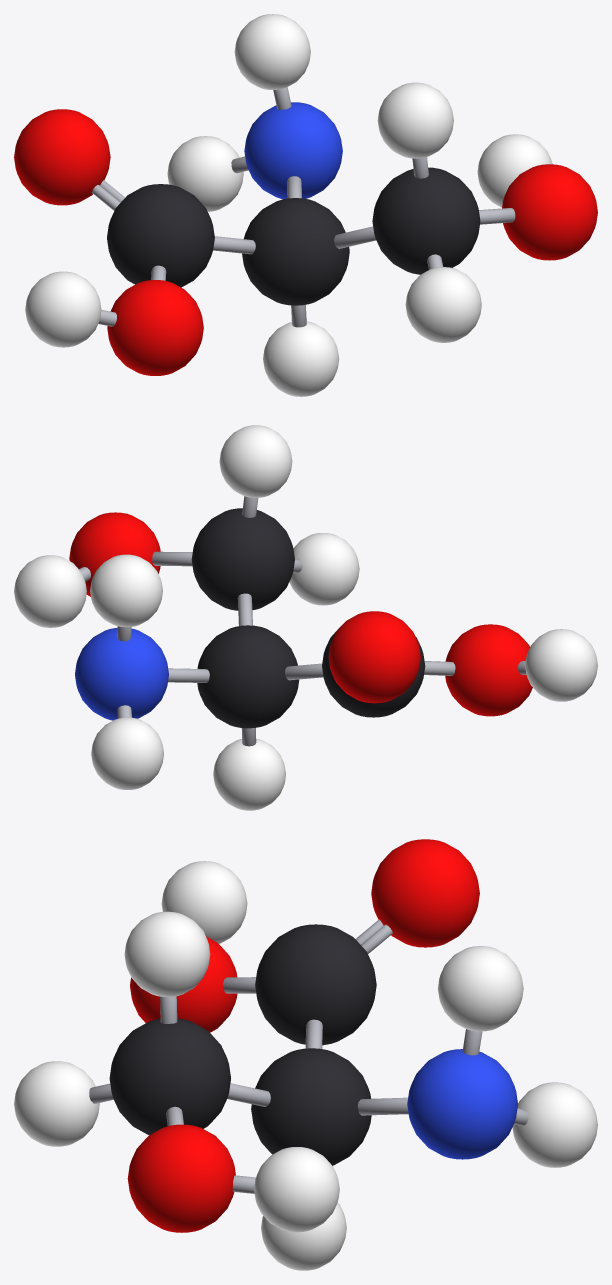
Rendered from serine.glb.
The picture shows the model from 3 angles, top to bottom: view 1: azimuth 30°, elevation 25°; view 2: azimuth 150°, elevation 25°; view 3: azimuth 270°, elevation 25°; orthographic projection. The views are drawn at different scales.
Visible parts, largest first — view 1: C1, C2, C4, O5, O6, N0, O3, H13, H11, H10, H7, H9 (+5 smaller); view 2: C1, C2, O5, N0, O6, H12, H13, H8, H11, H7, H9, H10 (+5 smaller); view 3: C4, C2, C1, N0, O3, O5, H7, H11, H12, H10, H8, H13 (+4 smaller).
Part boxes in pixels (x1,y1,x2,y2): C1: (242,198,349,305); C2: (372,167,480,274); C4: (107,184,214,287); O5: (14,109,110,205); O6: (107,280,203,375); N0: (244,102,342,199); O3: (502,164,597,260); H13: (25,271,101,347); H11: (377,82,453,158); H10: (405,267,481,342); H7: (234,14,310,89); H9: (263,321,339,396); C1: (197,625,299,728); C2: (191,508,294,610); O5: (328,611,420,703); N0: (75,628,168,720); O6: (445,624,532,716); H12: (14,555,86,627); H13: (525,629,597,701); H8: (91,717,163,789); H11: (219,425,292,497); H7: (90,554,162,627); H9: (213,738,285,810); H10: (289,533,359,605); C4: (255,924,376,1045); C2: (109,1018,230,1135); C1: (251,1048,371,1165); N0: (407,1049,517,1159); O3: (127,1124,235,1232); O5: (371,839,479,947); H7: (438,946,523,1031); H11: (124,911,210,997); H12: (254,1147,339,1232); H10: (14,1061,99,1146); H8: (512,1082,597,1167); H13: (161,861,247,943).
Bounding box in the file's own units: 6.1 × 3.53 × 4.9.
